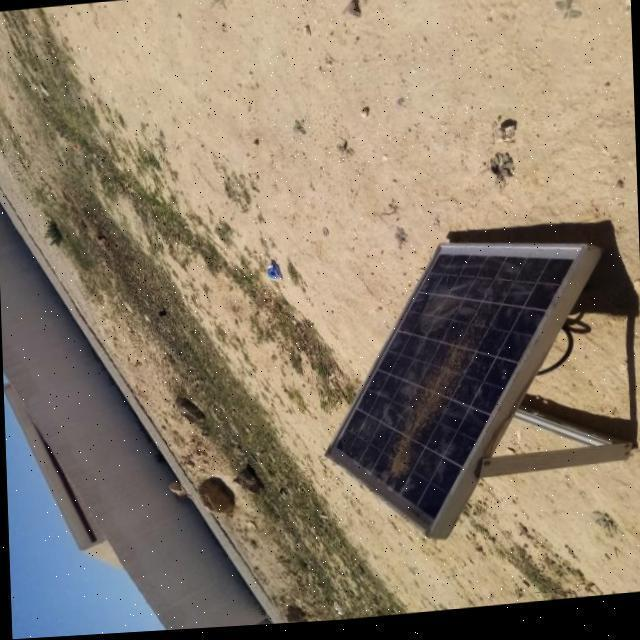Anomaly Solar Panel: (330, 253, 577, 532)
Surface Contaminant: (372, 270, 545, 494), (348, 418, 373, 453)
